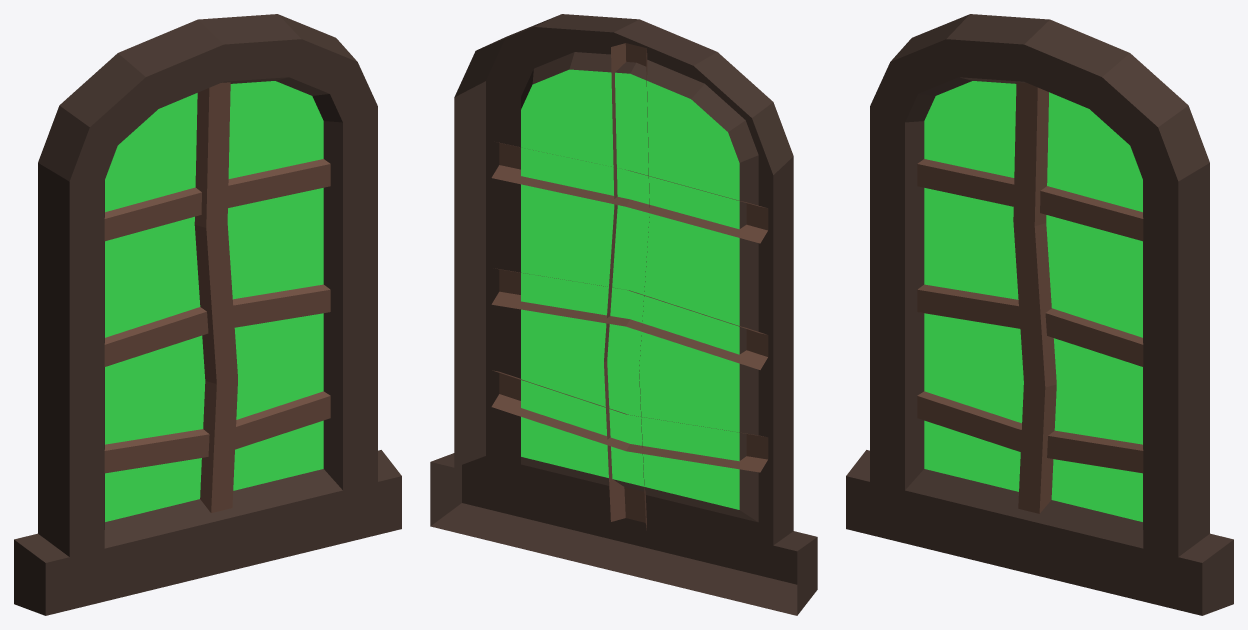
Rendered from LPHorror_ArchWindow.fbx.
The picture shows the model from 3 angles, left to right: view 1: azimuth 30°, elevation 25°; view 2: azimuth 150°, elevation 25°; view 3: azimuth 330°, elevation 25°; orthographic projection.
Visible parts, largest first — view 1: ArchWindow; view 2: ArchWindow; view 3: ArchWindow.
Boxes of the visible parts, <box> form: ArchWindow: <box>14,14,401,615</box>; ArchWindow: <box>430,14,817,615</box>; ArchWindow: <box>846,14,1233,615</box>.
Size of the model in its own units: 111 by 156 by 13.64.
